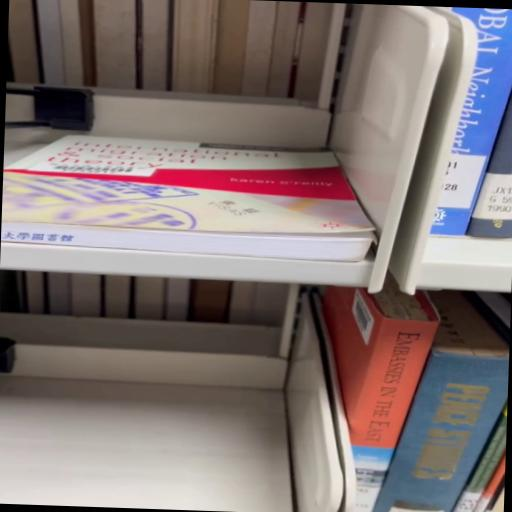flat: (0, 134, 373, 261)
